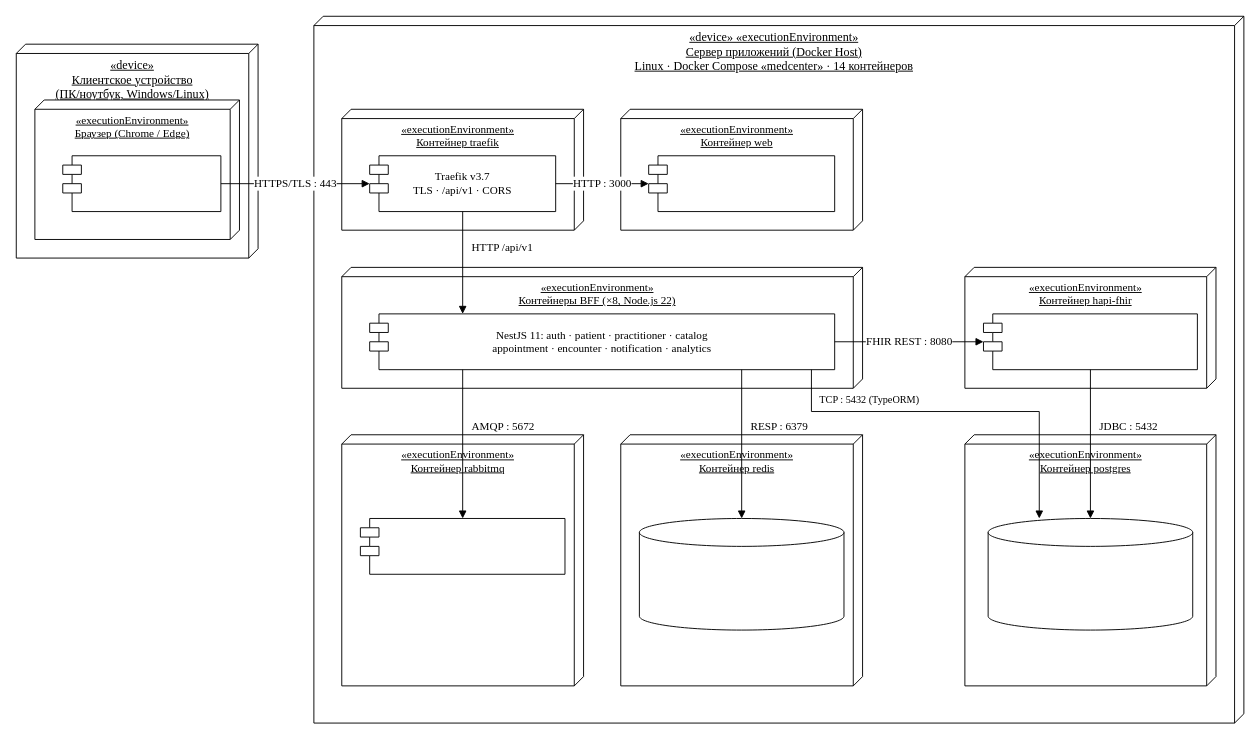
Image size: 1260x739. Some labels were removed from this diagram. Each missing label, with the centre of its shape:
"HAPI FHIR JPA v8.12 · R4 (порт 8080)" goes at (1090,341).
"Next.js 15 (порт 3000) SSR · статика SPA" goes at (741,183).
"Next.js SPA (HTML/CSS/JS bundle)" goes at (141,183).
"RabbitMQ 3.13 topic medical.events · DLQ" goes at (462,546).
"«database» PostgreSQL 16 (fhir_db, схема auth)" goes at (1090,574).
"«database» Redis 7 (кэш, rate-limit, denylist)" goes at (741,574).
